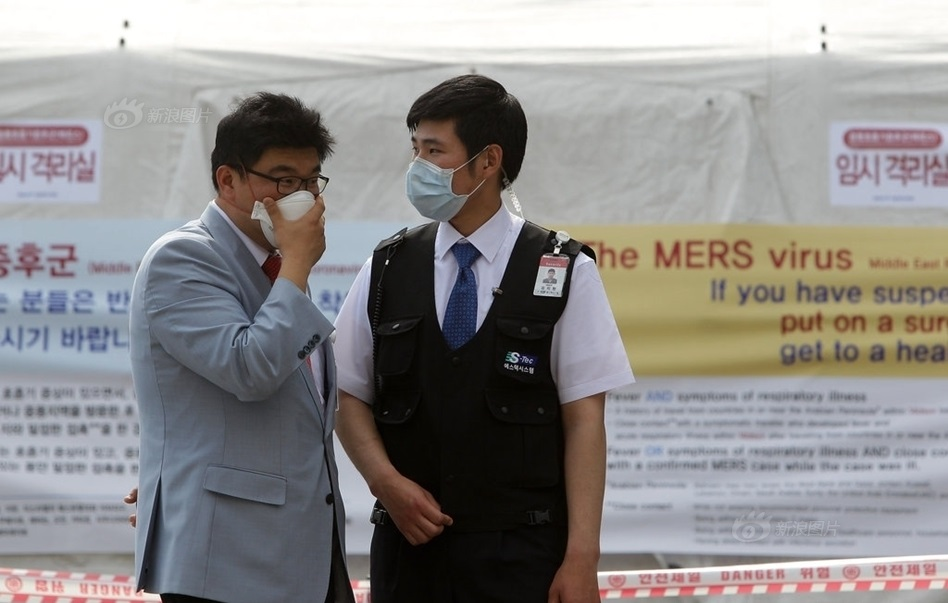face_mask: (239, 146, 321, 255), (402, 120, 467, 226)
